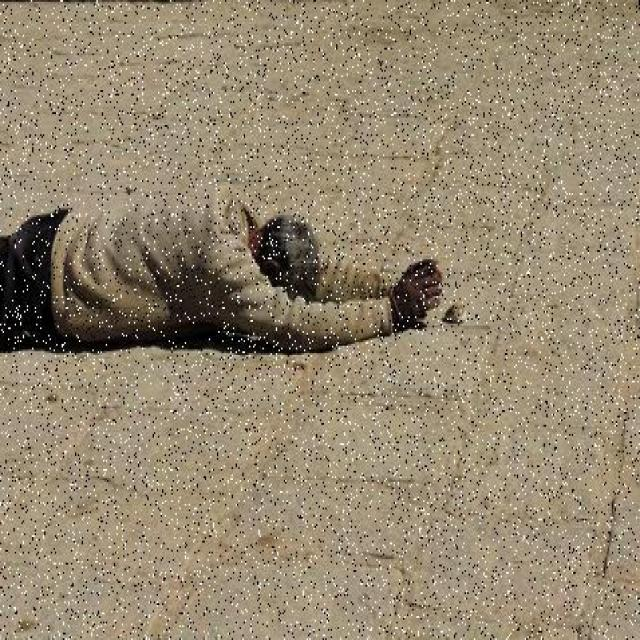fall: (1, 194, 434, 358)
